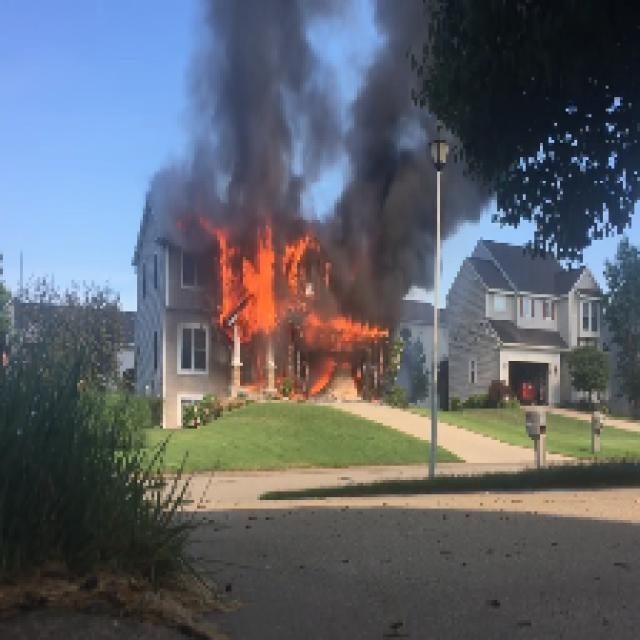Fire: (208, 228, 320, 340)
Smoke: (148, 2, 343, 218), (337, 3, 432, 306)
